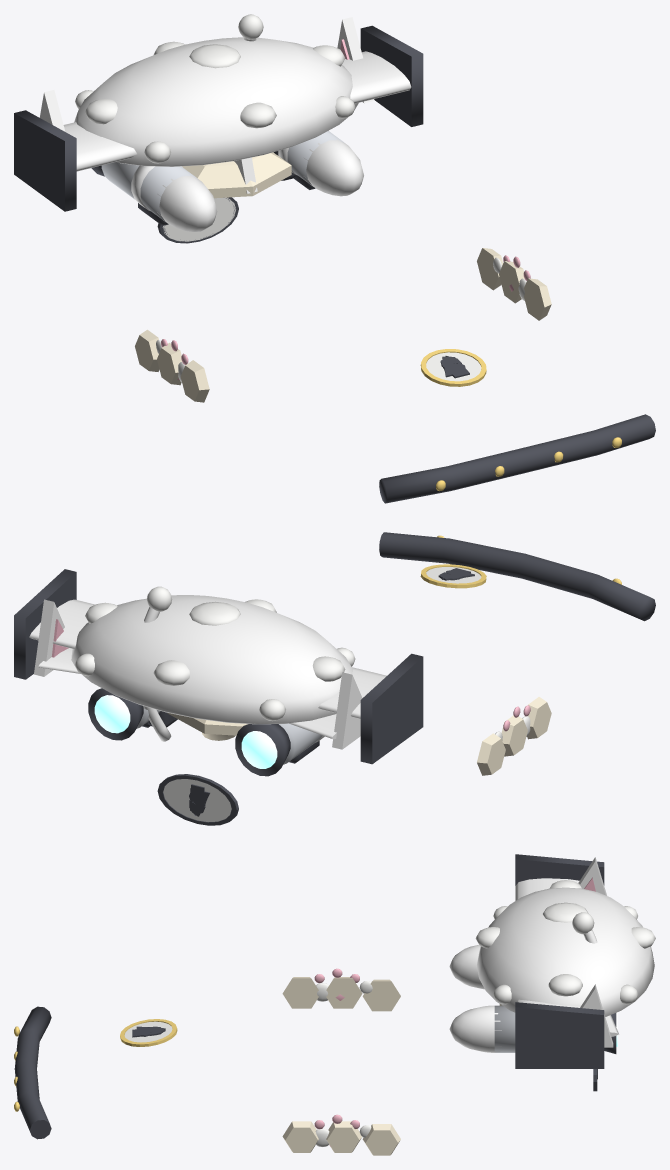
The model's file is kartkit.glb.
3 renders of one model, top to bottom at view 1: azimuth 30°, elevation 25°; view 2: azimuth 150°, elevation 25°; view 3: azimuth 270°, elevation 25°, orthographic. The views are drawn at different scales.
Visible parts, largest first — view 1: KX_0_Parts, KX_1_Parts, KX_2_Parts, KX_3_Parts, KX_0_Plate, KX_0_HoodDisc, KX_0_HoodRim; view 2: KX_0_Parts, KX_1_Parts, KX_2_Parts, KX_3_Parts, KX_0_Plate, KX_0_PlateRim, KX_0_HoodRim, KX_0_HoodDisc; view 3: KX_0_Parts, KX_1_Parts, KX_2_Parts, KX_3_Parts, KX_0_HoodRim, KX_0_HoodDisc.
Part boxes in pixels (x1,y1,x2,y2): KX_0_Parts: (74,37,526,382); KX_1_Parts: (14,25,655,503); KX_2_Parts: (91,130,363,231); KX_3_Parts: (39,14,530,380); KX_0_Plate: (162,197,235,241); KX_0_HoodDisc: (426,352,481,381); KX_0_HoodRim: (420,349,486,386); KX_0_Parts: (71,595,530,740); KX_1_Parts: (14,532,655,775); KX_2_Parts: (88,688,324,776); KX_3_Parts: (34,586,530,749); KX_0_Plate: (163,779,231,821); KX_0_PlateRim: (157,774,238,825); KX_0_HoodRim: (420,564,486,588); KX_0_HoodDisc: (426,567,481,583); KX_0_Parts: (315,880,655,1147); KX_1_Parts: (14,854,604,1155); KX_2_Parts: (449,945,617,1053); KX_3_Parts: (314,857,618,1146); KX_0_HoodRim: (120,1019,177,1046); KX_0_HoodDisc: (124,1021,172,1042).
Bounding box in the file's own units: 2.44 × 1.43 × 4.33.
